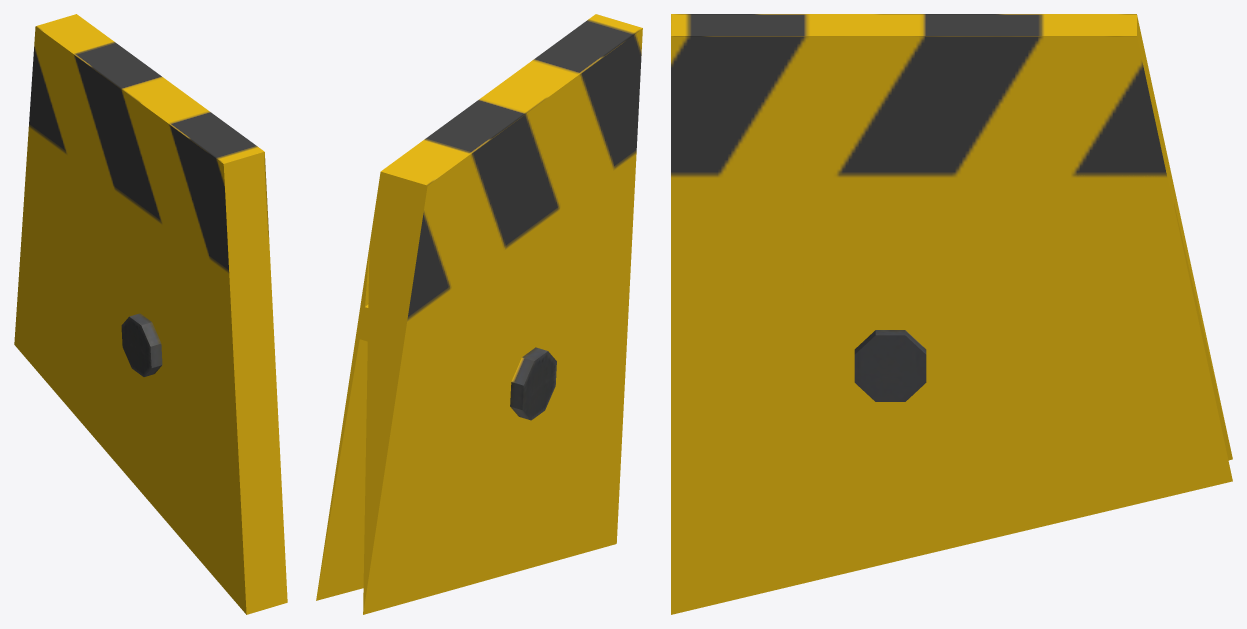
The model's file is SM_ShieldDebris_Shard_B.fbx.
The picture shows the model from 3 angles, left to right: view 1: azimuth 30°, elevation 25°; view 2: azimuth 150°, elevation 25°; view 3: azimuth 270°, elevation 25°; orthographic projection. The views are drawn at different scales.
Parts seen in each view (by area): view 1: SM_ShieldDebris_Shard_B; view 2: SM_ShieldDebris_Shard_B; view 3: SM_ShieldDebris_Shard_B.
Boxes of the visible parts, x1,y1,x2,y2 form: SM_ShieldDebris_Shard_B: (14,14,287,614); SM_ShieldDebris_Shard_B: (316,14,642,614); SM_ShieldDebris_Shard_B: (671,14,1232,614).
Size of the model in its own units: 4.67 by 31.31 by 28.08.
Materials: 1 (1 with a texture image).
